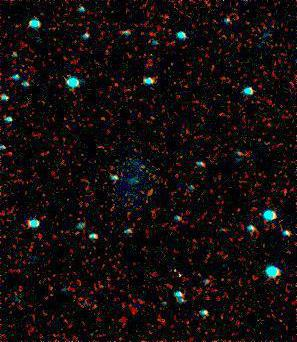star: (221, 196, 251, 226)
